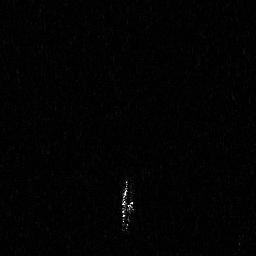ship: (121, 176, 135, 235)
